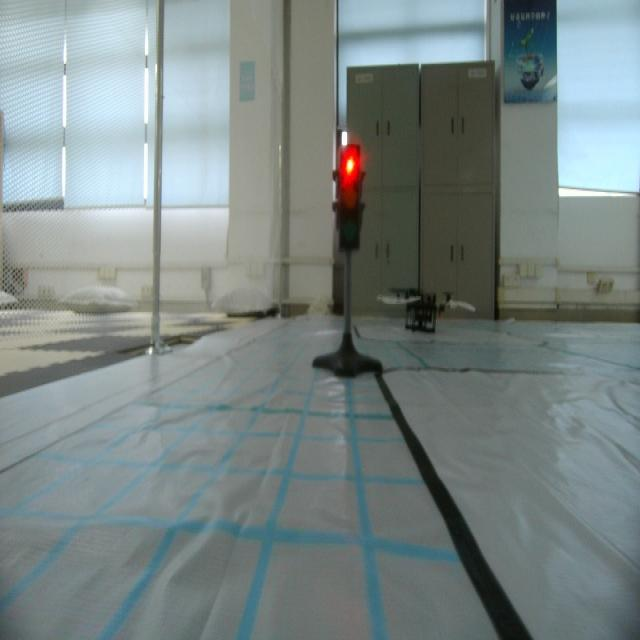red: (335, 142, 364, 252)
